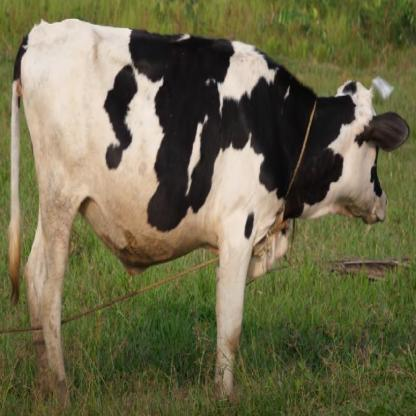cow: (7, 18, 410, 404)
